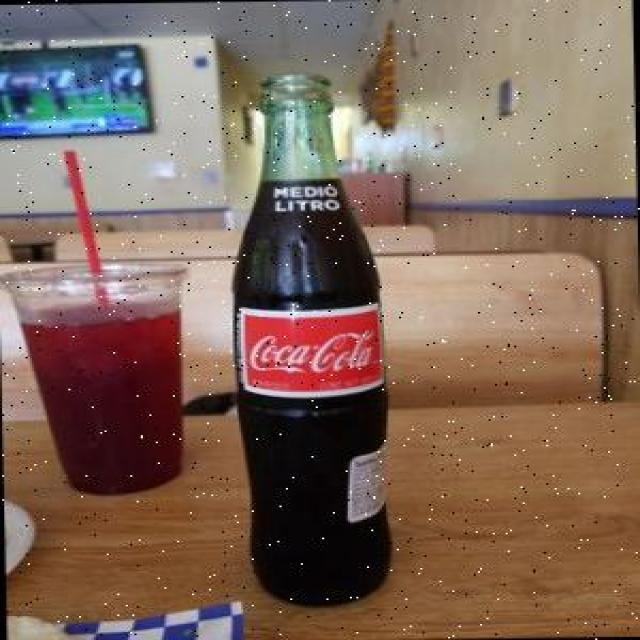coca-cola: (209, 62, 410, 616)
